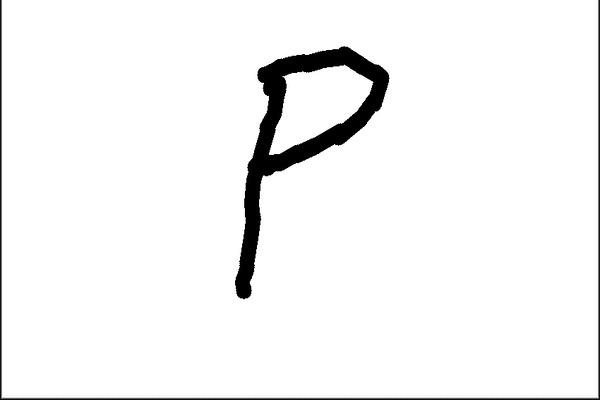P: (219, 39, 390, 306)
